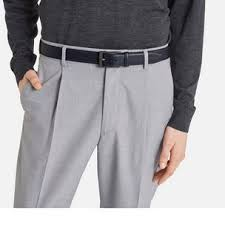F_belt: (38, 33, 176, 72)
